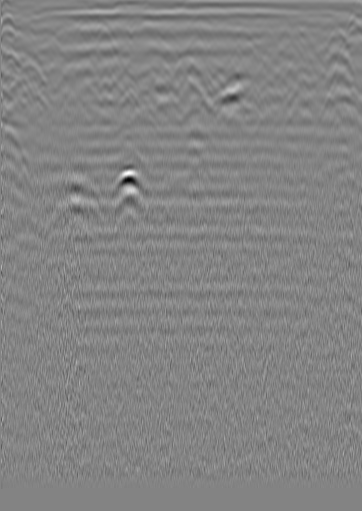가스: (111, 166, 146, 203)
상수: (15, 17, 35, 37)
오수: (309, 18, 329, 38)
우수: (160, 24, 180, 44)
